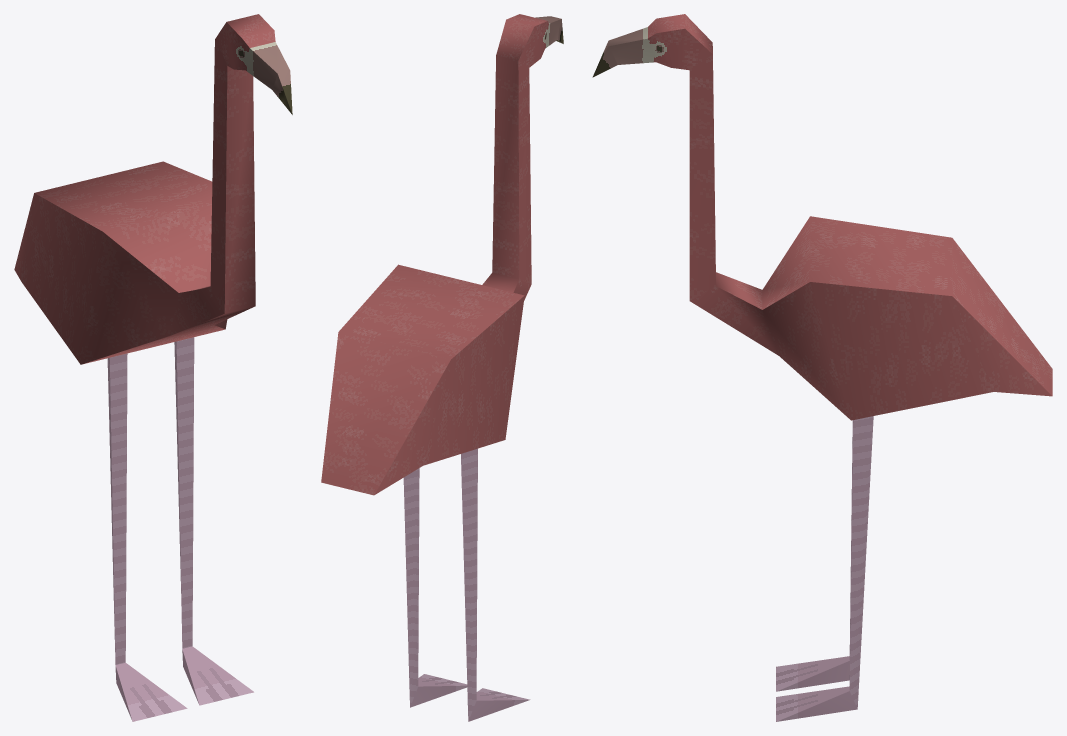
File: 0a2e_Flamingo.glb
3 renders of one model, left to right at view 1: azimuth 30°, elevation 25°; view 2: azimuth 150°, elevation 25°; view 3: azimuth 270°, elevation 25°, orthographic. The views are drawn at different scales.
Visible parts, largest first — view 1: part_0; view 2: part_0; view 3: part_0.
Boxes of the visible parts, x1,y1,x2,y2 form: part_0: (14,14,292,721); part_0: (321,14,563,721); part_0: (592,14,1052,721).
Bounding box in the file's own units: 0.2775 × 1.33 × 0.8217.
Materials: 1 (1 with a texture image).
